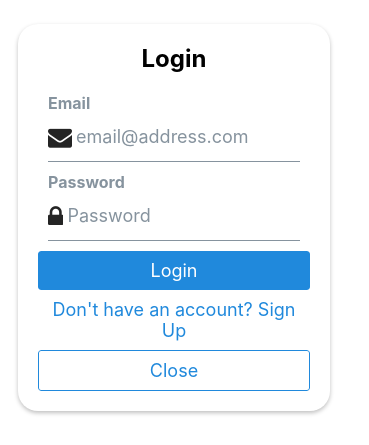
Scenario: Login Screen › displays an error message on failed login attempt
Type "user@example.com" into the field with test id "emailInput". click: (220,136)
box: [76,116,364,156]
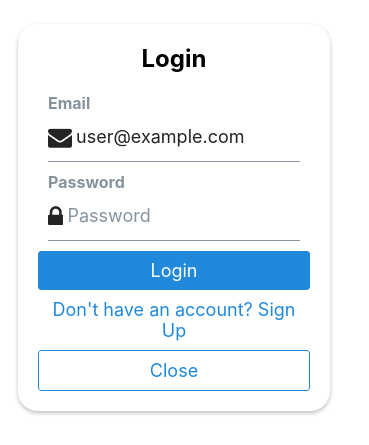
Type "wrongpassword" into the password field with test id "passwordInput". click: (211,216)
box: [67,196,355,236]
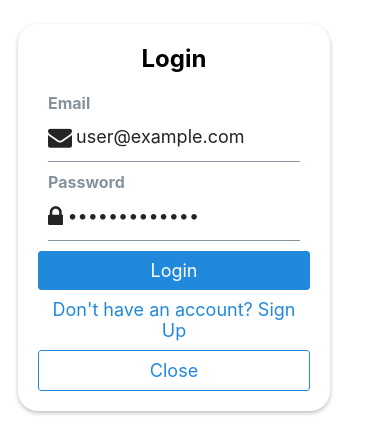
Click the button with test id "loginButton". click: (174,270)
box: [38,250,310,290]
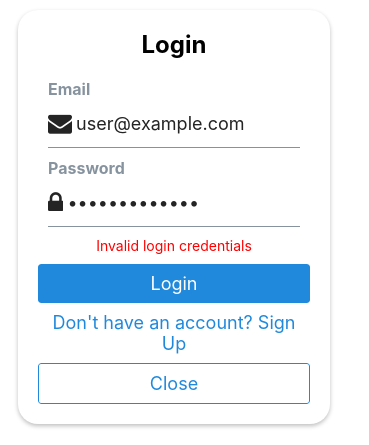
Expected: the text "Invalid login credentials" is shown, [96,237,252,254]
